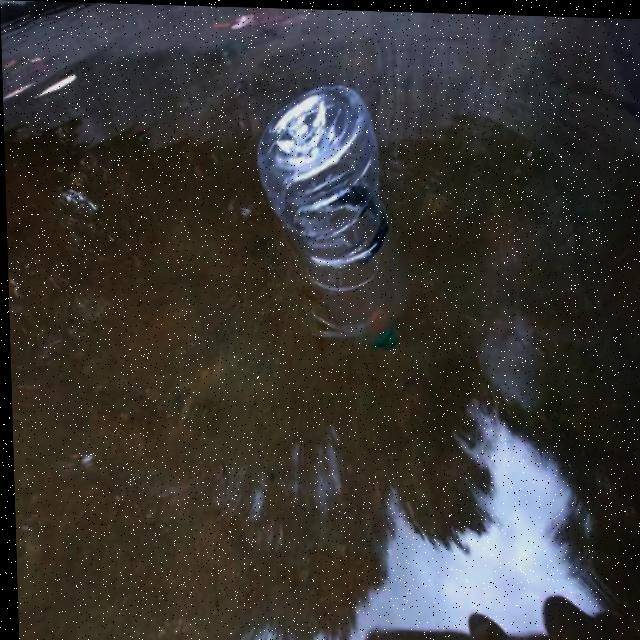waterbottle: (244, 68, 415, 356)
